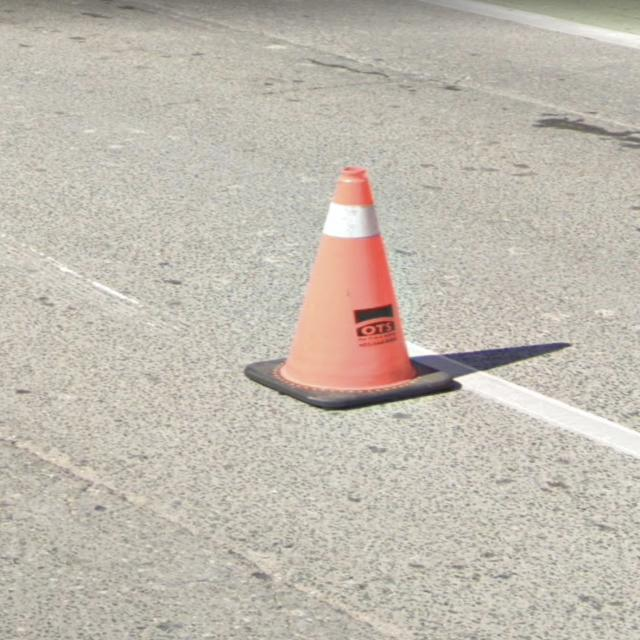Traffic Cone: (242, 165, 462, 412)
